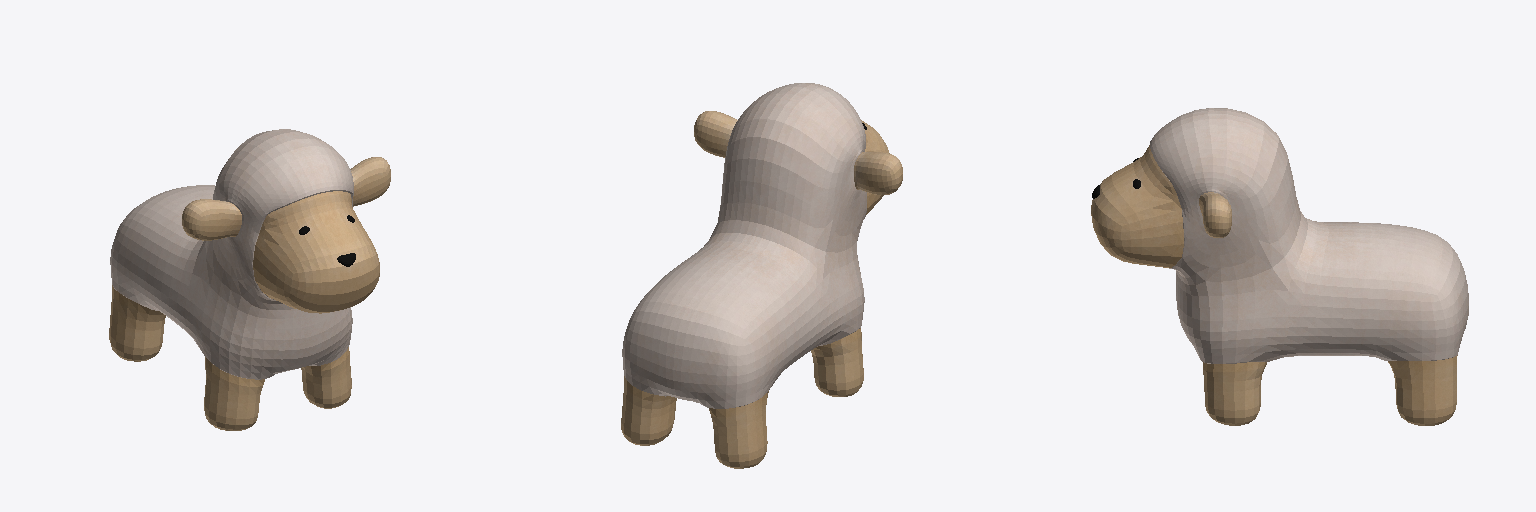
The picture shows the model from 3 angles: view 1: azimuth 30°, elevation 25°; view 2: azimuth 150°, elevation 25°; view 3: azimuth 270°, elevation 25°; orthographic projection.
Visible parts, largest first — view 1: Cube.010_Cube.002; view 2: Cube.010_Cube.002; view 3: Cube.010_Cube.002.
Boxes of the visible parts, box(x1,y1,x2,y2) form: Cube.010_Cube.002: box(109, 129, 390, 430); Cube.010_Cube.002: box(621, 83, 902, 468); Cube.010_Cube.002: box(1091, 108, 1468, 425).
Bounding box in the file's own units: 0.8499 × 1.12 × 1.36.
Materials: 1 (1 with a texture image).